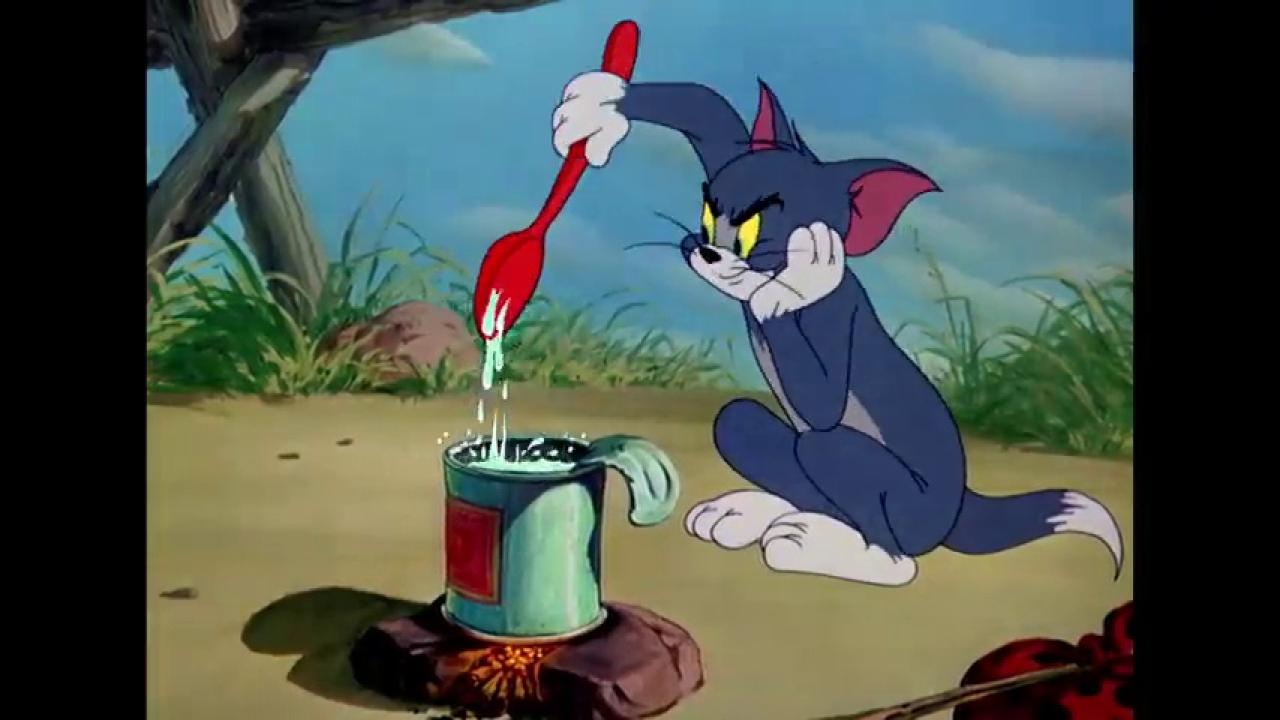Tom: (551, 68, 1127, 588)
